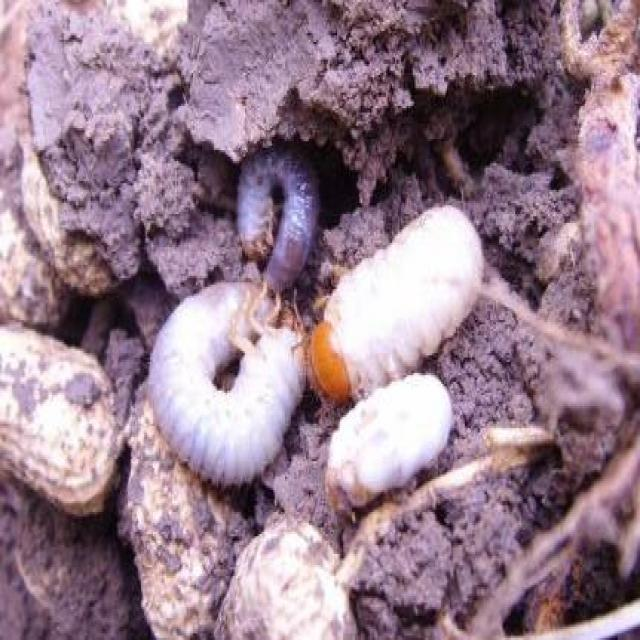Grub-Adult-: (305, 205, 497, 402), (150, 276, 315, 488), (227, 120, 325, 296)
